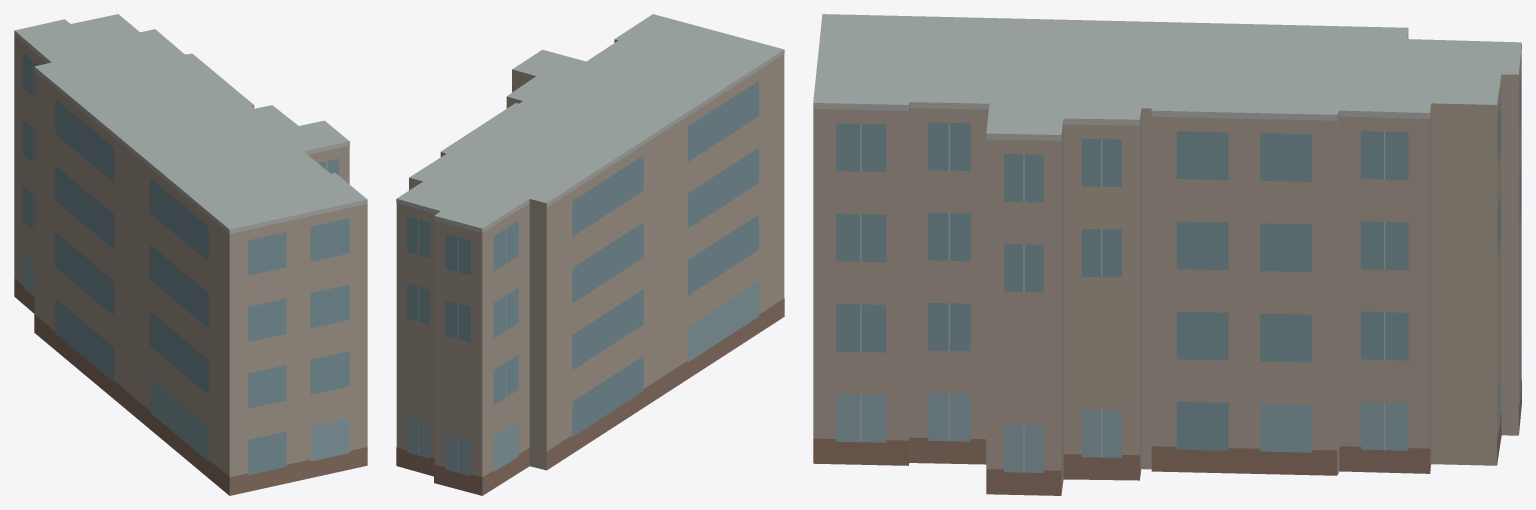
Rendered from survey-upis-32910120.glb.
The picture shows the model from 3 angles, left to right: view 1: azimuth 30°, elevation 25°; view 2: azimuth 150°, elevation 25°; view 3: azimuth 270°, elevation 25°; orthographic projection. The views are drawn at different scales.
Parts seen in each view (by area): view 1: survey-upis-32910120.tmp; view 2: survey-upis-32910120.tmp; view 3: survey-upis-32910120.tmp.
Boxes of the visible parts, x1=… form: survey-upis-32910120.tmp: x1=14, y1=14, x2=367, y2=495; survey-upis-32910120.tmp: x1=396, y1=14, x2=784, y2=495; survey-upis-32910120.tmp: x1=813, y1=14, x2=1521, y2=495.
Bounding box in the file's own units: 10.73 × 14.9 × 26.54.
